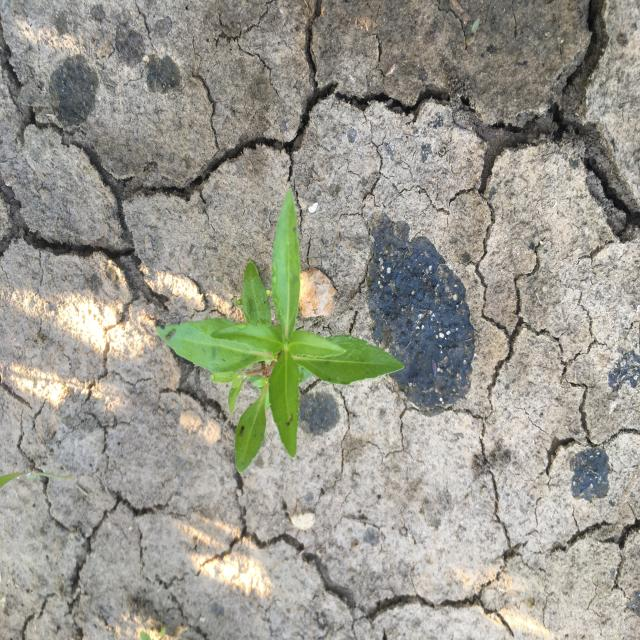Eclipta: (151, 185, 407, 475)
